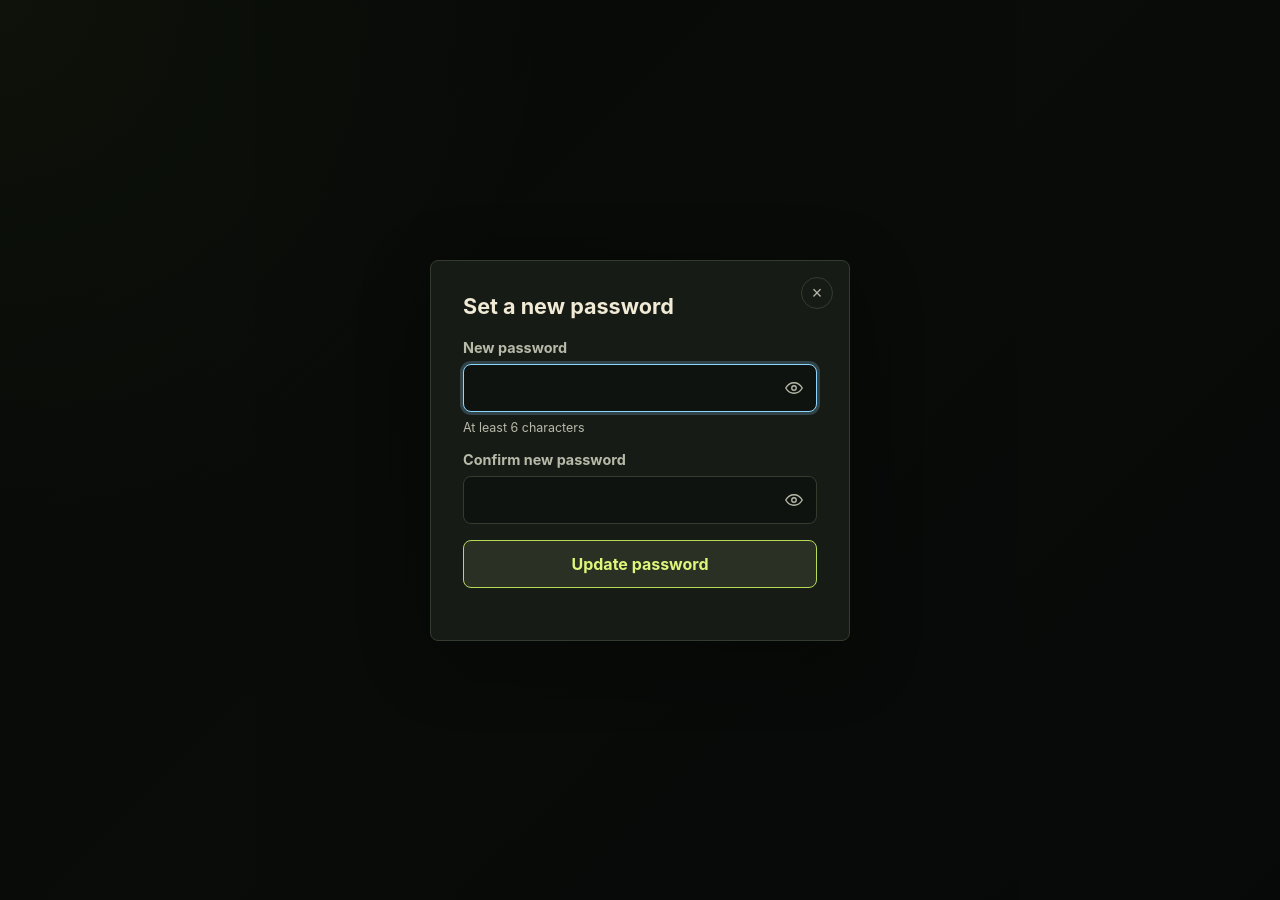
AuthModal — set new password › renders an updateUser error via #authError
Type "newpassword1" into the password field with id "authPassword" at (640, 388), box top-left (463, 364), bottom-right (817, 412)
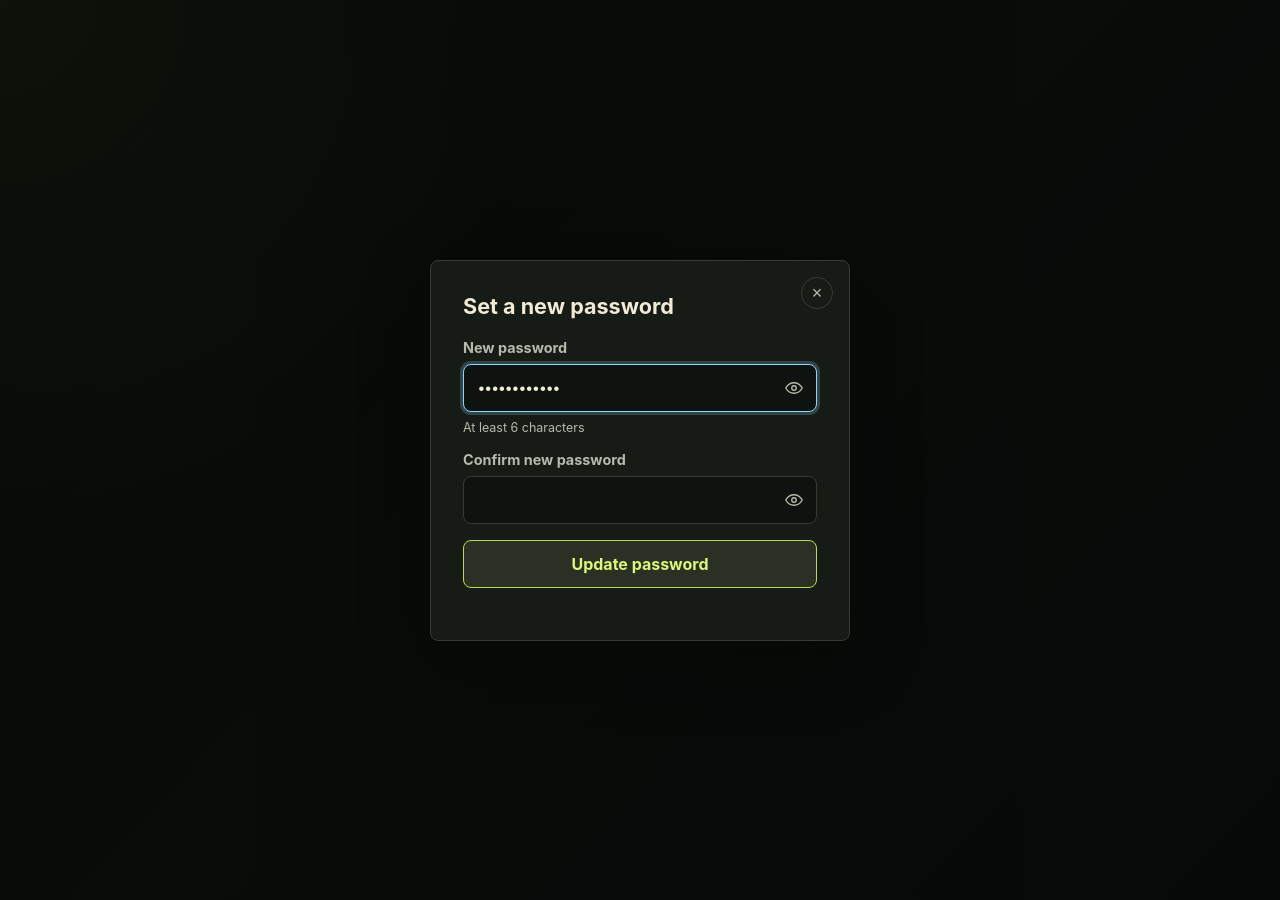
Type "newpassword1" into the password field with id "authConfirmPassword" at (640, 500), box top-left (463, 476), bottom-right (817, 524)
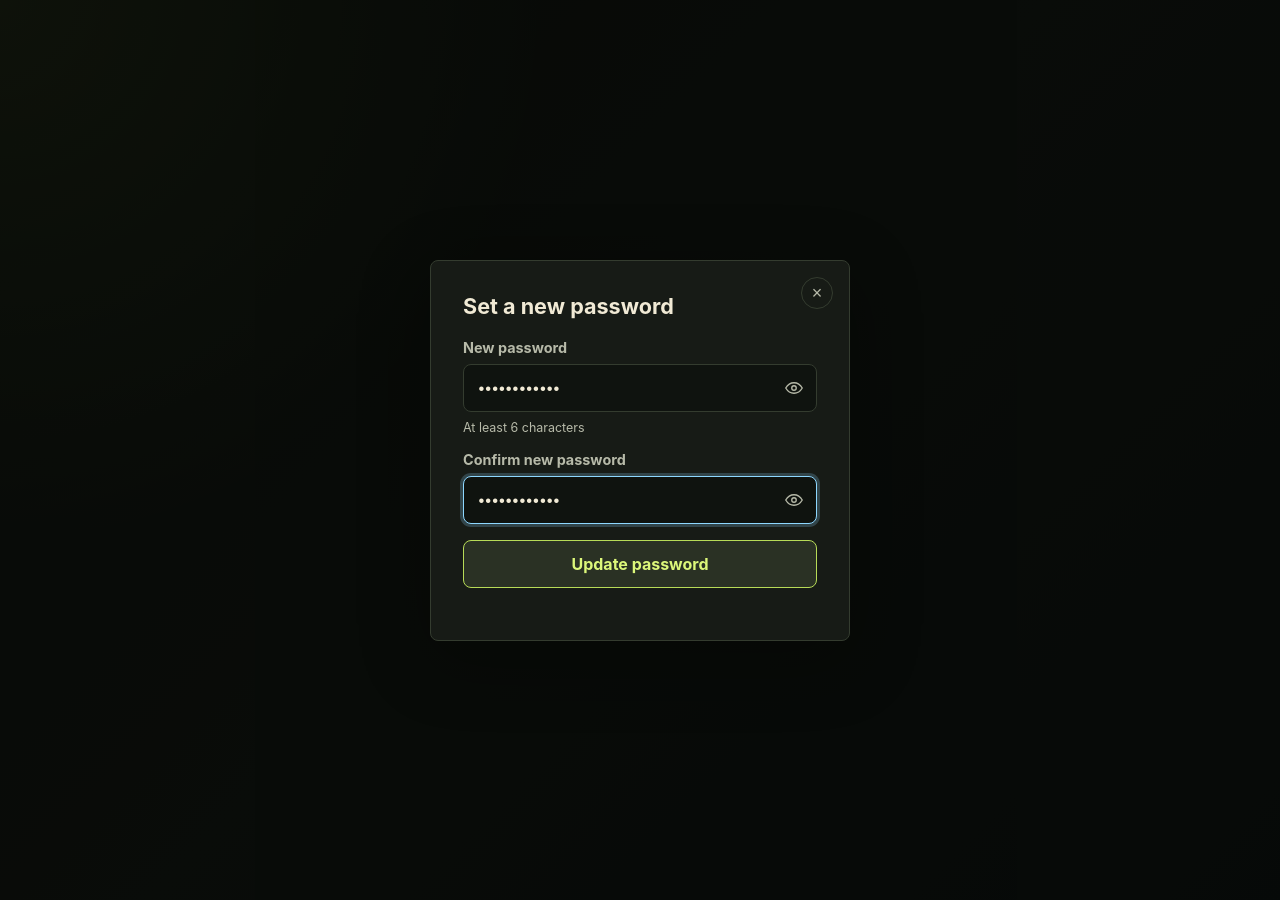
Click the button "Update password" at (640, 564), box top-left (463, 540), bottom-right (817, 588)
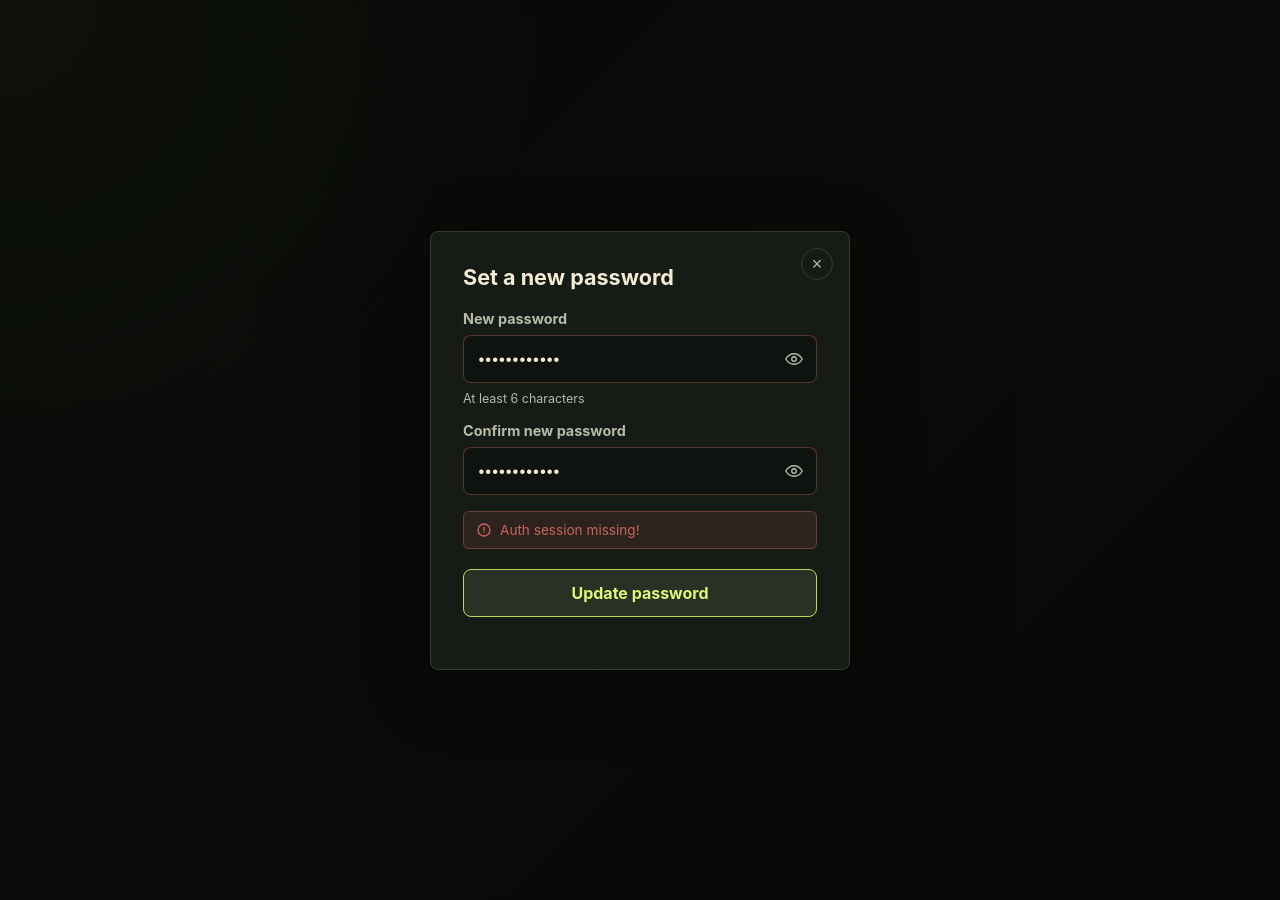
Check: the text "Auth session missing!" is shown, box top-left (463, 510), bottom-right (817, 548)
